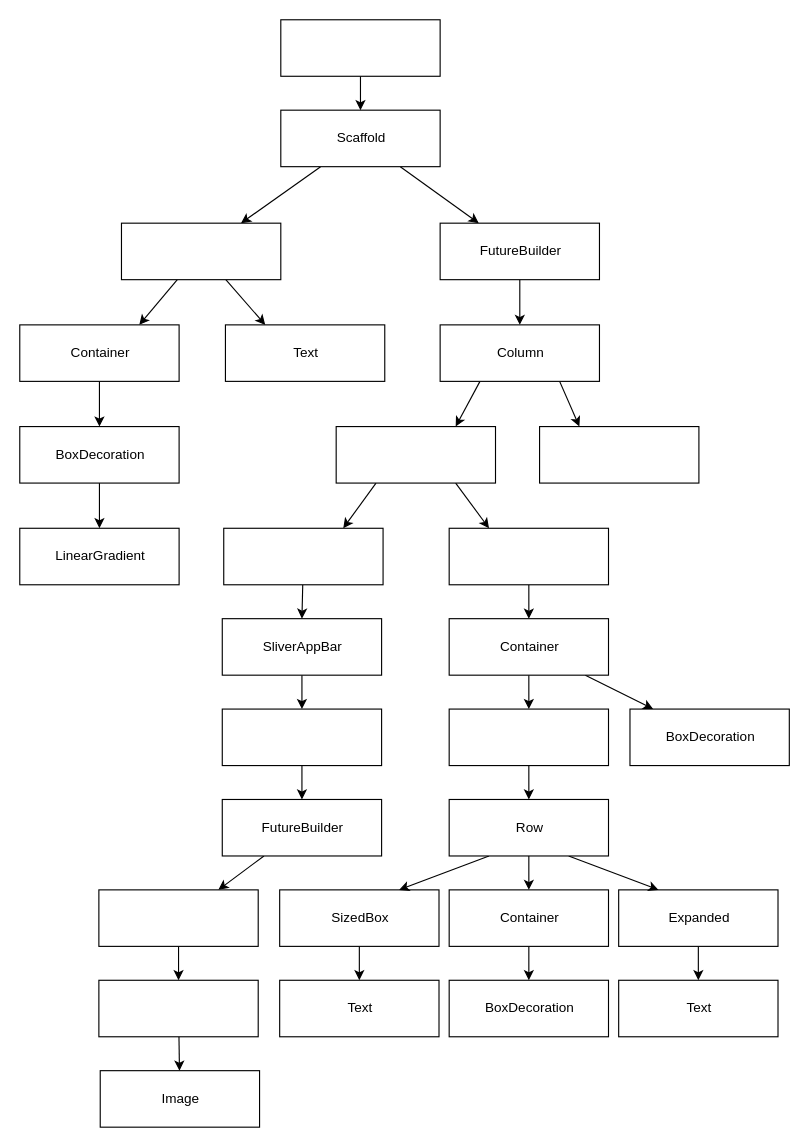
This 809x1147 diagram has some shape labels left out. Here are the shapes that lost their labels. From the top down, the centre of each, then its label:
the point at 360,47: OrientationBuilder
the point at 200,251: AppBar
the point at 415,454: NestedScrollView
the point at 618,454: PlayBar
the point at 303,556: SliverSafeArea
the point at 528,556: GridView
the point at 301,737: FlexibleSpaceBar
the point at 528,737: ListTile
the point at 178,917: Card
the point at 178,1008: Center
